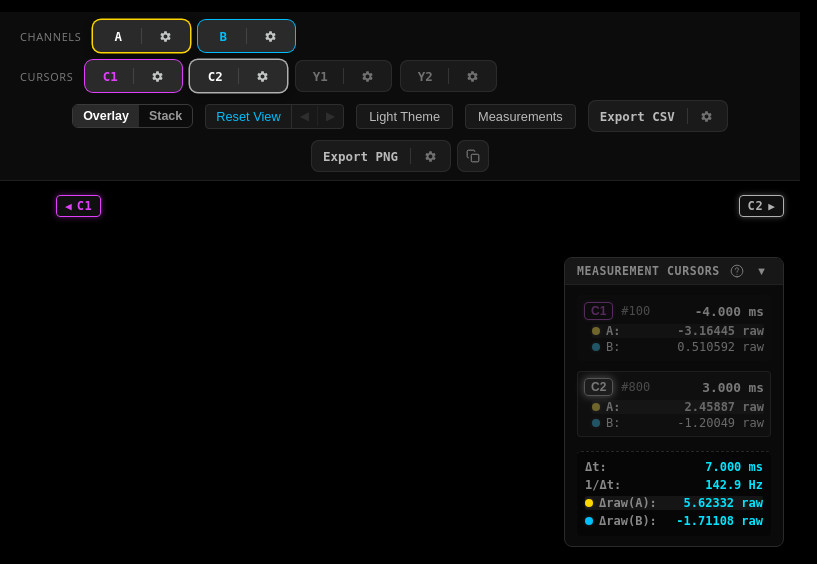
Test case: Out-of-view Cursor Recovery (Issue #15) › AC1-AC3 (Issue #132): Recovering C1 places at 33%, C2 at 67%, preventing overlap when both are recovered
The image size is (817, 564).
Expected: the button with test id "cursor-recovery-badge-c2" is shown, [739,195,784,217]
Click the button with test id "cursor-recovery-badge-c1".
click(79, 206)  # box [56,195,101,217]
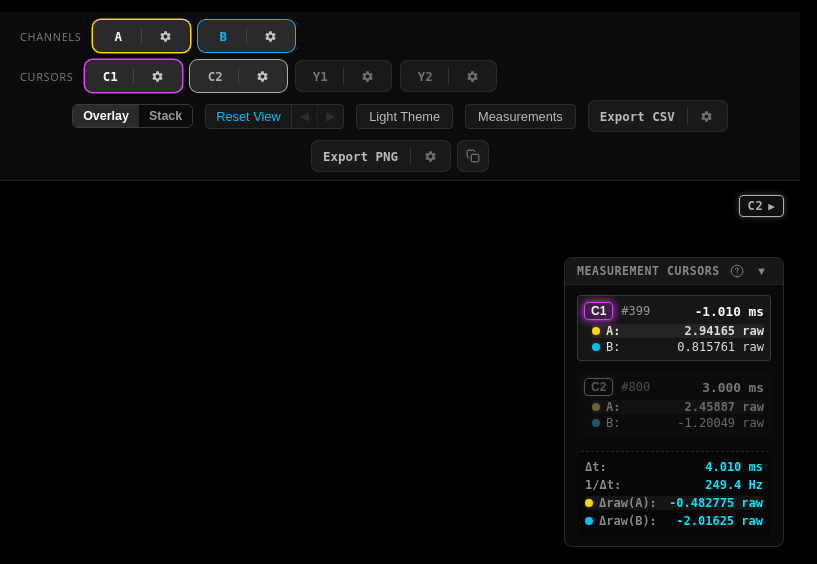
Result: the button with test id "cursor-recovery-badge-c1" is gone
Click the button with test id "cursor-recovery-badge-c2".
click(761, 206)  # box [739,195,784,217]
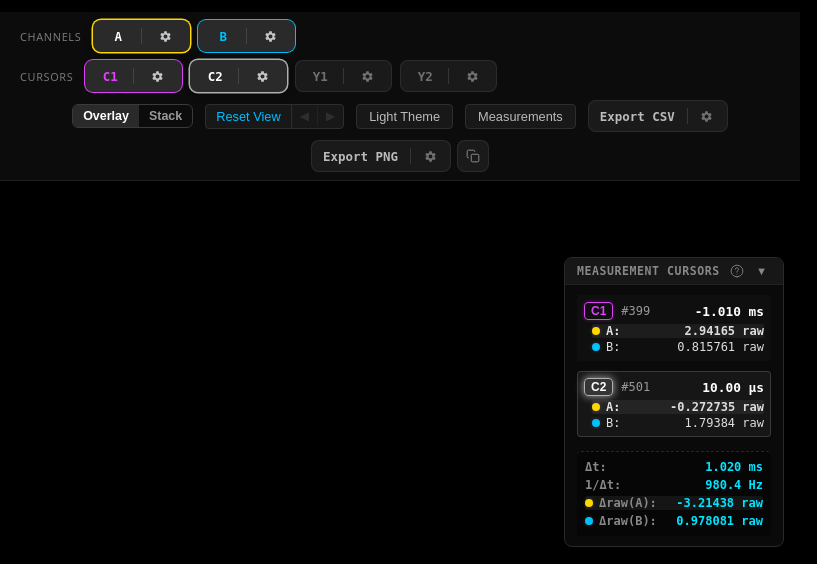
Result: the button with test id "cursor-recovery-badge-c2" is gone
